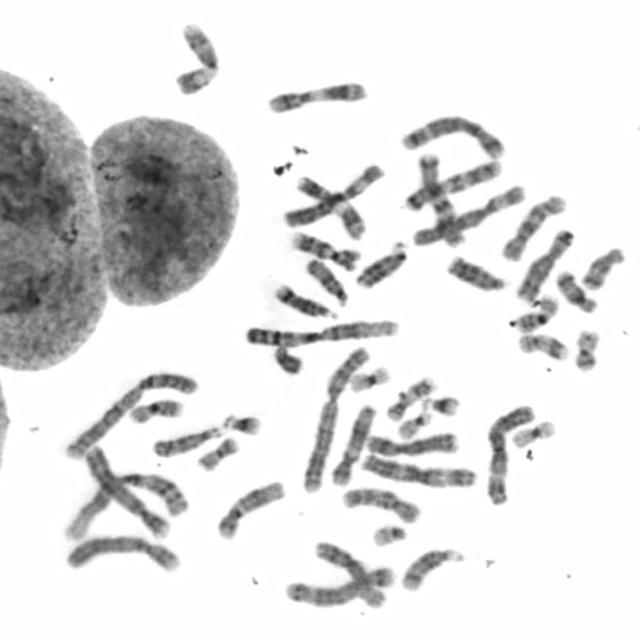A1: (58, 467, 192, 543), (240, 314, 400, 349)
A2: (60, 368, 199, 460), (298, 342, 372, 494)
A3: (481, 399, 537, 507), (357, 450, 478, 489)
B4: (82, 442, 171, 540), (61, 531, 183, 573)
B5: (281, 562, 396, 608), (398, 112, 507, 160)
C10: (497, 190, 568, 263), (338, 483, 422, 525)
C11: (290, 173, 366, 241), (262, 78, 370, 116)
C12: (214, 476, 286, 540), (327, 402, 379, 488)
C6: (406, 180, 528, 249), (279, 159, 387, 229)
C7: (399, 156, 504, 213), (412, 148, 466, 249)
C8: (310, 536, 387, 610), (512, 224, 576, 304)
C9: (170, 18, 222, 98), (286, 228, 361, 272)
D13: (352, 238, 410, 291), (444, 252, 508, 293)
D14: (396, 544, 466, 593), (270, 280, 339, 320)
D15: (149, 422, 224, 458), (302, 255, 350, 307)
E16: (513, 293, 560, 334), (125, 395, 186, 426)
E17: (382, 374, 439, 423), (514, 330, 571, 362)
E18: (578, 243, 626, 292), (552, 267, 598, 314)
F19: (508, 416, 558, 450), (346, 362, 392, 394)
F20: (193, 433, 240, 473), (570, 326, 602, 373)
G21: (220, 409, 264, 437), (418, 392, 462, 417)
G22: (393, 409, 435, 440), (369, 521, 409, 548)
X: (362, 429, 460, 458)
Y: (269, 341, 305, 375)
